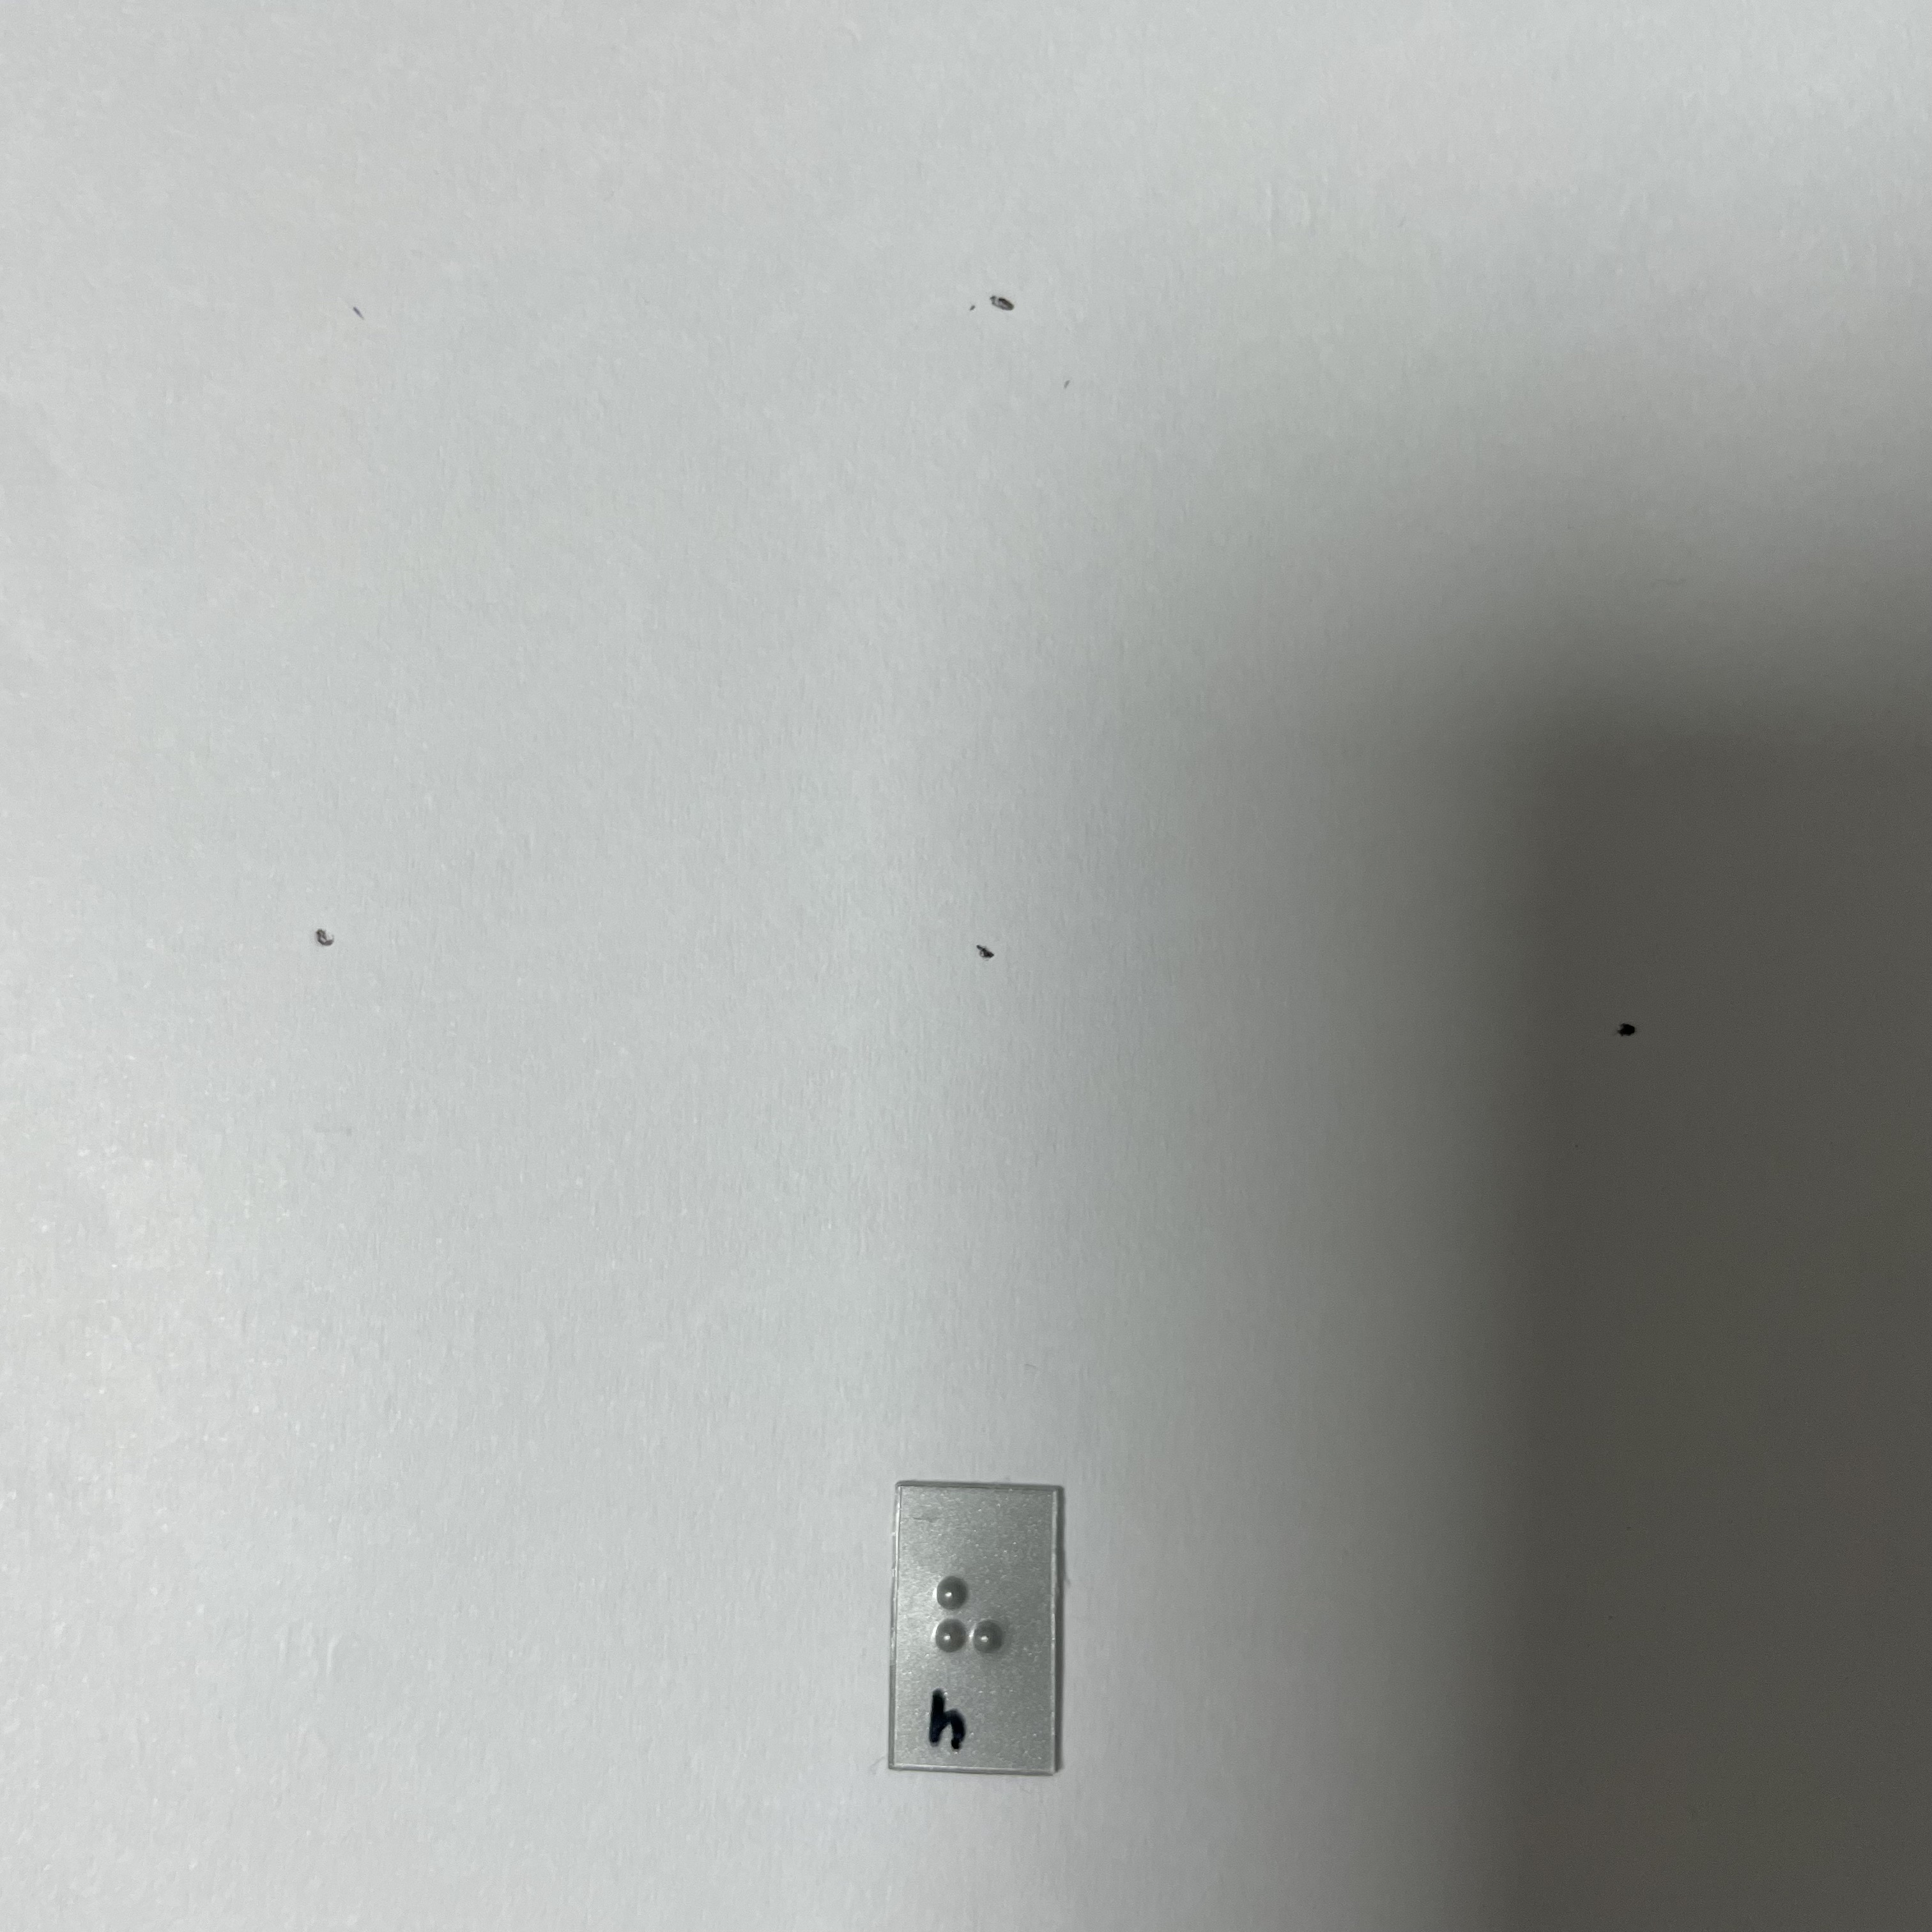h: (923, 1562, 1025, 1701)
